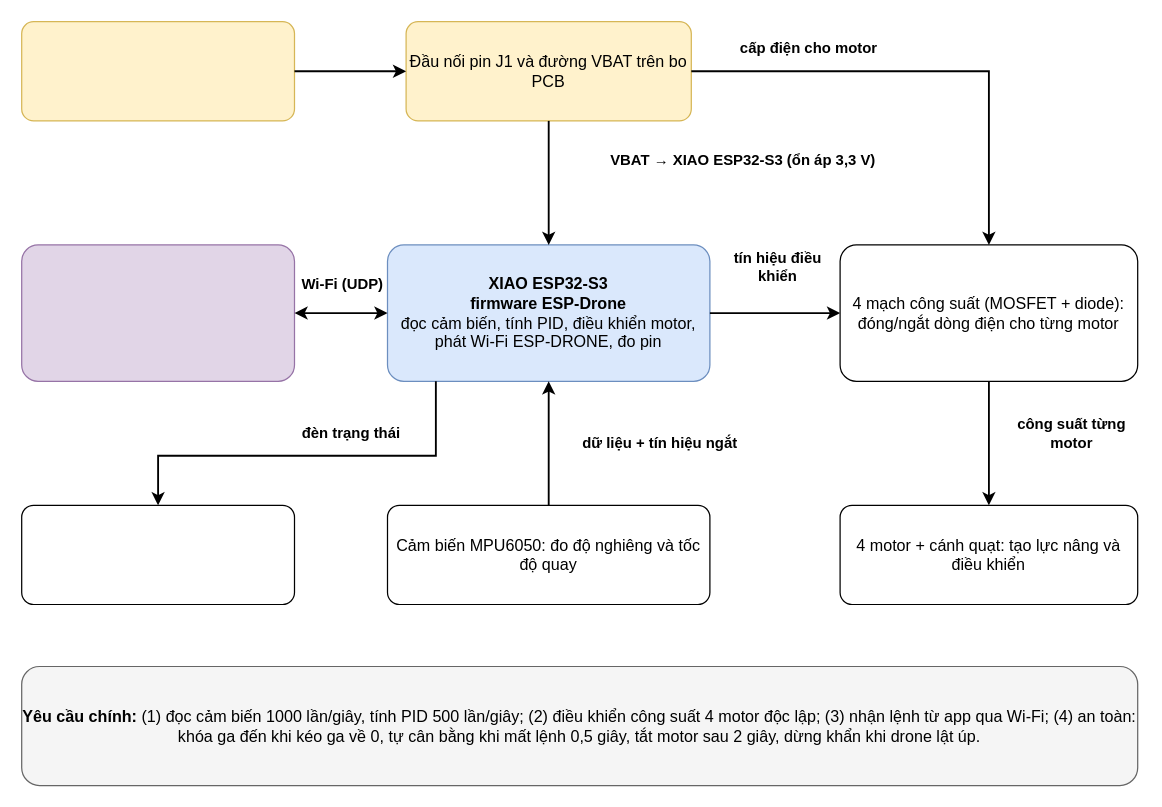
Some shapes in this 1162 by 807 pixel diagram are drawn without their labels. The shapes that lost their labels are listed below. From the top down, each one's box as (x1, y1, x2, y2) in pixels, then its label:
(20, 20, 294, 121): Pin LiPo 1S (3,7 V)
(20, 244, 294, 381): Điện thoại Android app ESP-Drone (cần ảo, cài đặt)
(20, 504, 294, 604): Đèn LED: 2 đèn trạng thái, 4 đèn định hướng
